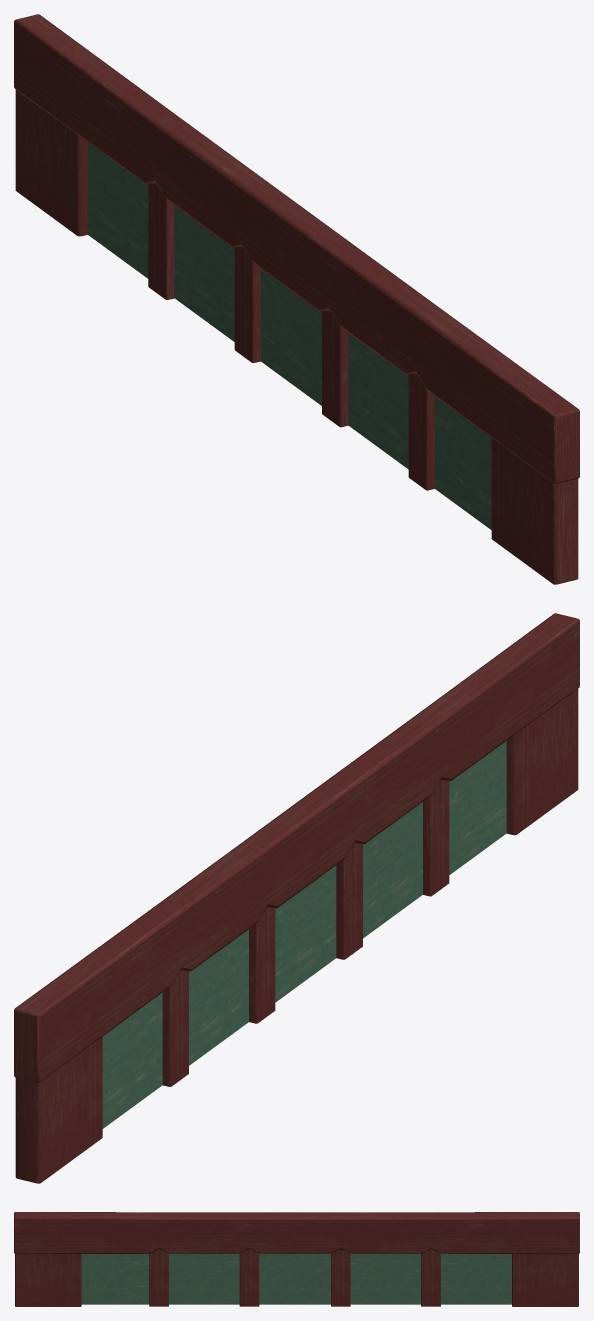
Rendered from SM_Railing03b.fbx.
3 views of the same model, one above another, from view 1: azimuth 30°, elevation 25°; view 2: azimuth 150°, elevation 25°; view 3: azimuth 270°, elevation 25° (orthographic). The views are drawn at different scales.
Parts seen in each view (by area): view 1: SM_Railing03b; view 2: SM_Railing03b; view 3: SM_Railing03b.
Part boxes in pixels (x1,y1,x2,y2): SM_Railing03b: (14, 14, 579, 584); SM_Railing03b: (14, 613, 579, 1183); SM_Railing03b: (14, 1212, 579, 1306).
Size of the model in its own units: 7 by 250 by 43.26.
2 materials, 2 textured.
